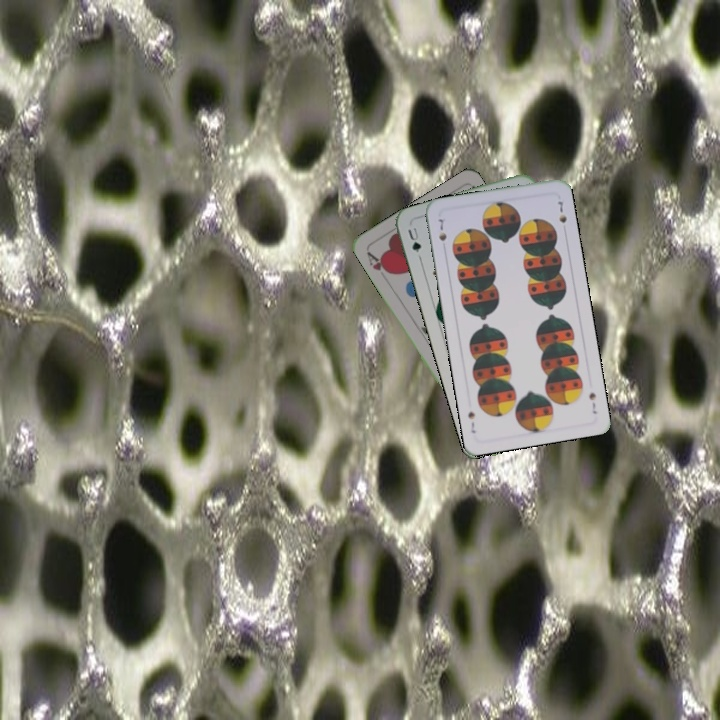GU: (404, 223, 424, 255)
HA: (363, 247, 394, 277)
S7: (435, 214, 449, 244), (585, 388, 600, 416)
